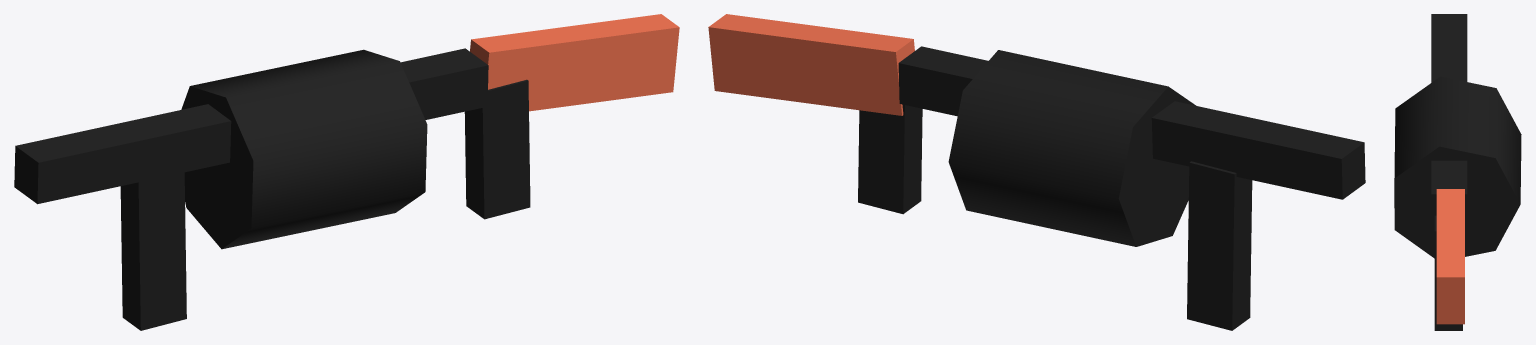
Rendered from grenade launcher.FBX.
The picture shows the model from 3 angles, left to right: view 1: azimuth 30°, elevation 25°; view 2: azimuth 150°, elevation 25°; view 3: azimuth 270°, elevation 25°; orthographic projection. The views are drawn at different scales.
Parts seen in each view (by area): view 1: Cylinder001, Box020, Box023, Box021, Box022; view 2: Cylinder001, Box020, Box023, Box021, Box022; view 3: Cylinder001, Box023, Box020, Box022.
Part boxes in pixels (box(x1,y1,x2,y2)): Cylinder001: box(181, 49, 427, 249); Box020: box(14, 48, 488, 204); Box023: box(470, 14, 679, 111); Box021: box(120, 172, 186, 330); Box022: box(464, 79, 530, 219); Cylinder001: box(948, 50, 1196, 246); Box020: box(898, 46, 1365, 199); Box023: box(708, 14, 914, 115); Box021: box(1187, 161, 1252, 330); Box022: box(858, 104, 922, 214); Cylinder001: box(1394, 76, 1521, 258); Box023: box(1436, 189, 1464, 324); Box020: box(1431, 14, 1467, 225); Box022: box(1434, 215, 1462, 330).
Bounding box in the file's own units: 14.87 × 4.7 × 3.26.
